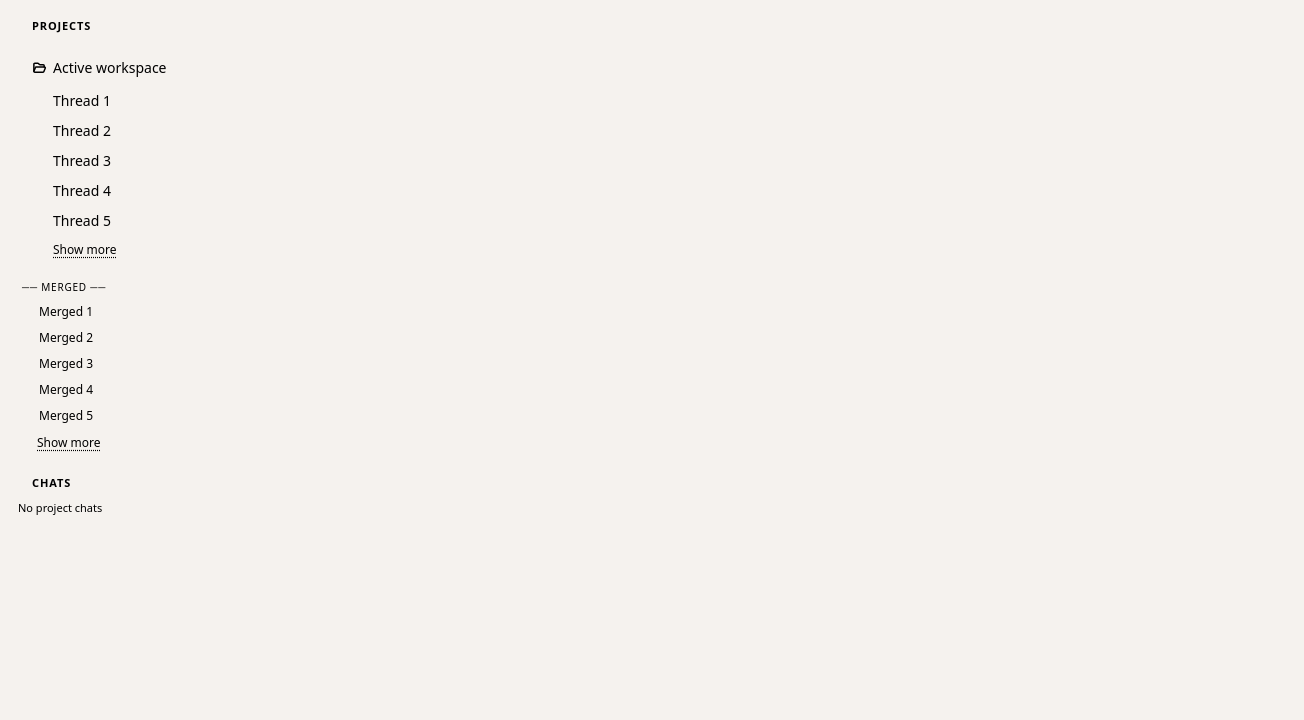
Test case: WorkspaceTree › counts Merged threads separately from regular threads
Expected: the text "Thread 5" is shown, [53, 210, 111, 230]
Expected: the text "Merged 5" is shown, [39, 406, 93, 424]
Click the button with aria-label "Show more merged threads" at point(69, 442), box [12, 428, 1292, 456]
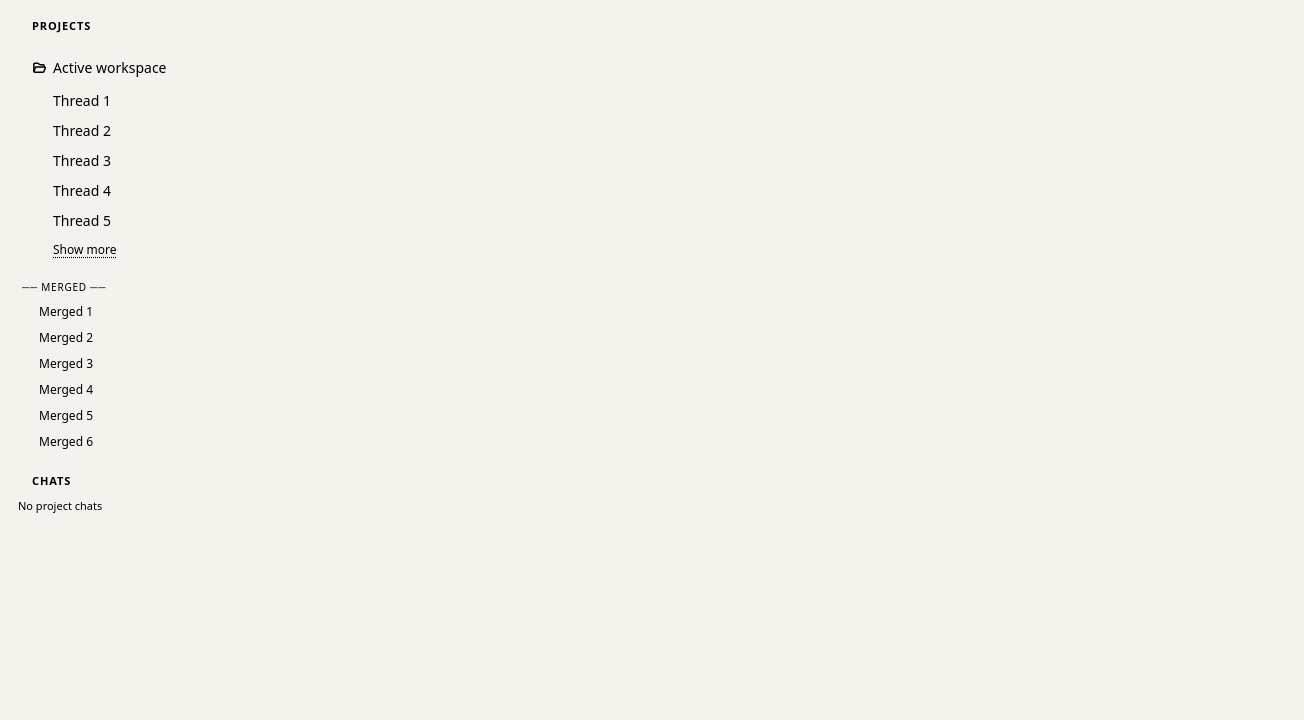
Expected: the text "Merged 6" is shown, [39, 432, 93, 450]
